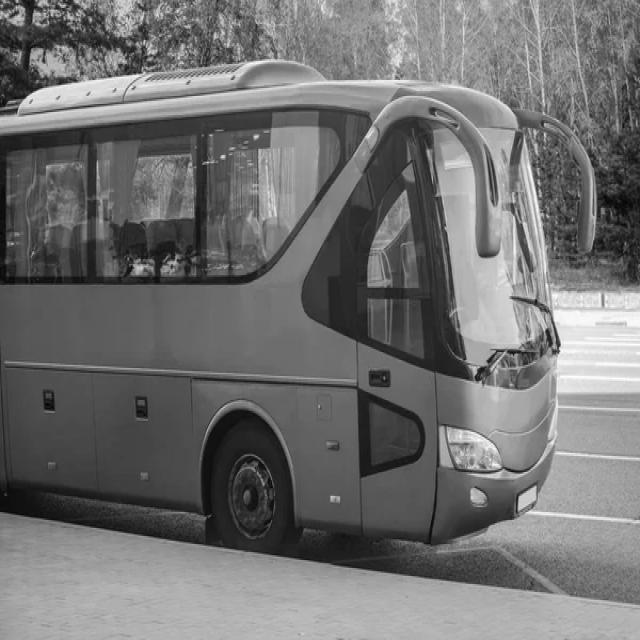Bus: (0, 60, 597, 551)
